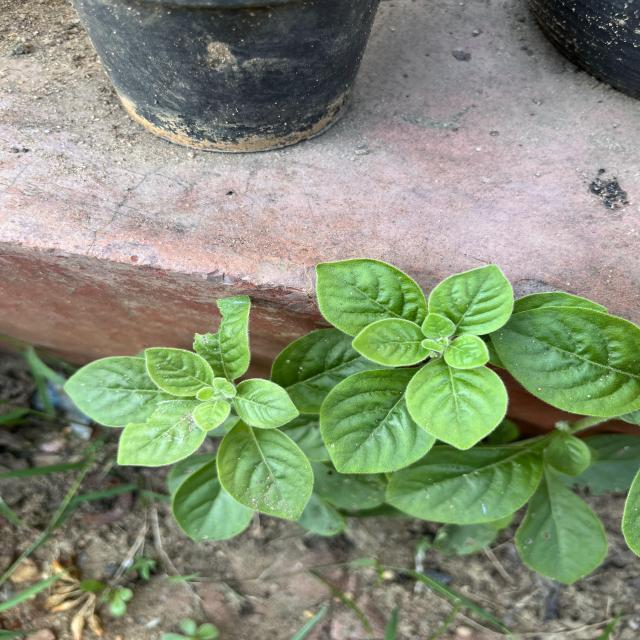Aerva lanata: (316, 365, 438, 476), (213, 419, 317, 524), (401, 354, 512, 452), (312, 255, 430, 338), (426, 262, 517, 338), (350, 315, 432, 368), (142, 344, 218, 398), (230, 376, 302, 431), (441, 332, 493, 372)
